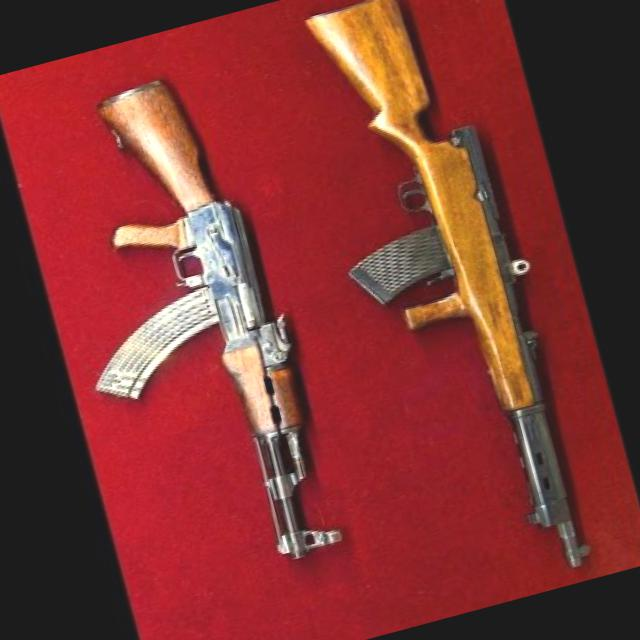long weapon: (276, 0, 610, 610), (20, 62, 351, 600)
